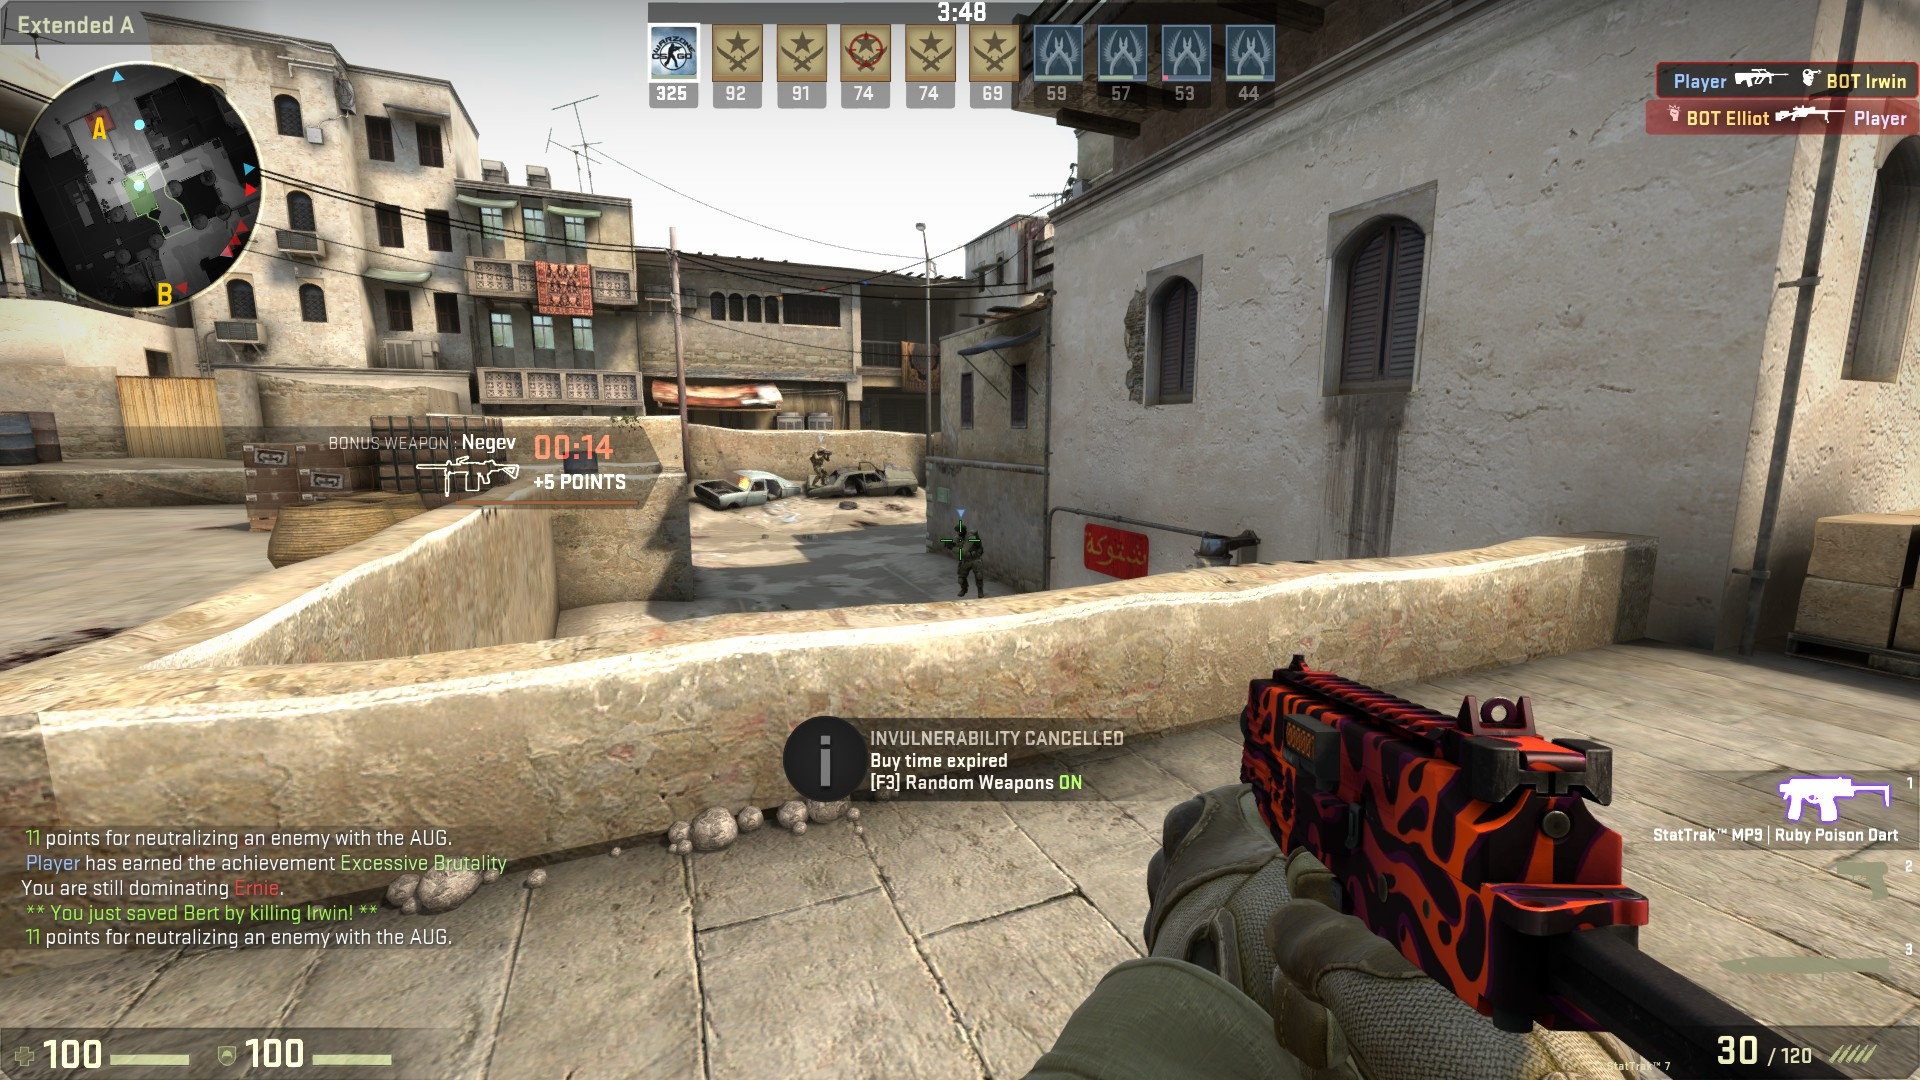c: (943, 524, 988, 600), (804, 446, 833, 487)
ch: (944, 524, 975, 538)
